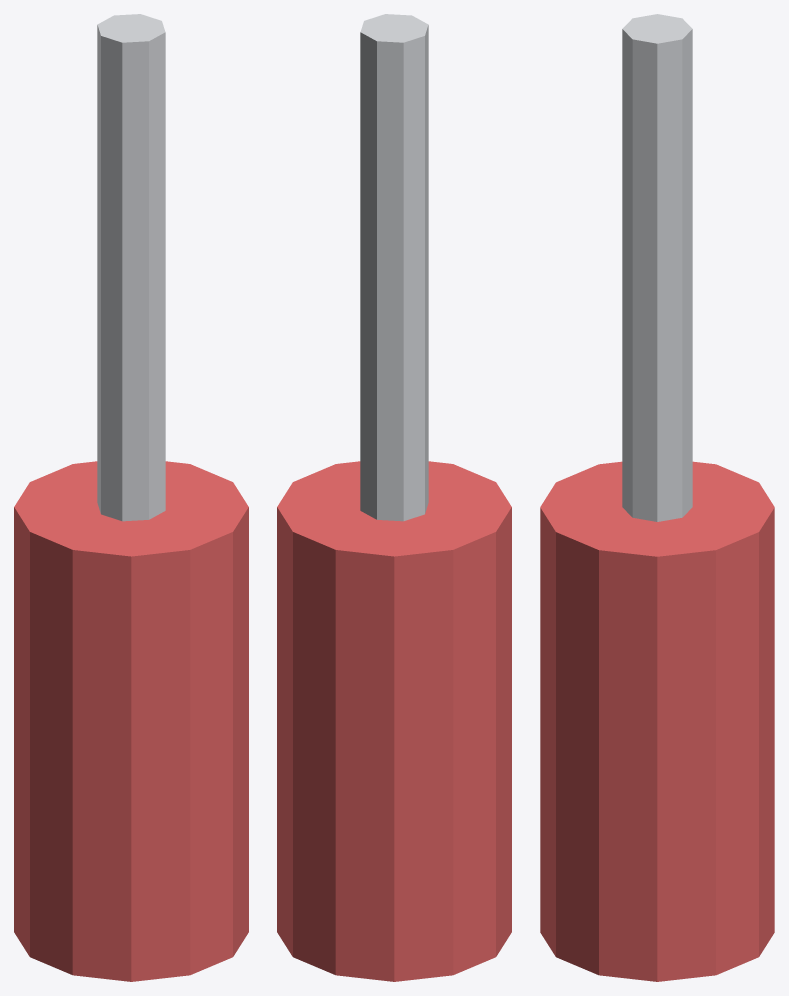
File: screwdriver.glb
3 views of the same model, side by side, from view 1: azimuth 30°, elevation 25°; view 2: azimuth 150°, elevation 25°; view 3: azimuth 270°, elevation 25° (orthographic).
Visible parts, largest first — view 1: Cylinder; view 2: Cylinder; view 3: Cylinder.
Boxes of the visible parts, x1,y1,x2,y2 form: Cylinder: (14,14,248,981); Cylinder: (277,14,511,981); Cylinder: (540,14,774,981).
Bounding box in the file's own units: 0.08 × 0.34 × 0.08.
